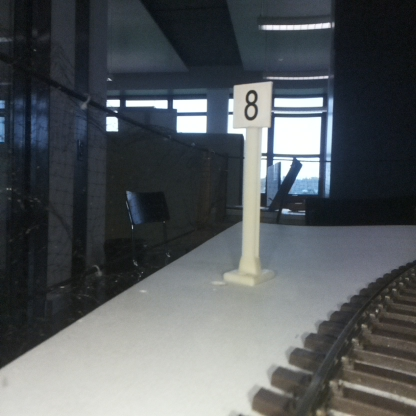white-info-8: (233, 82, 271, 281)
